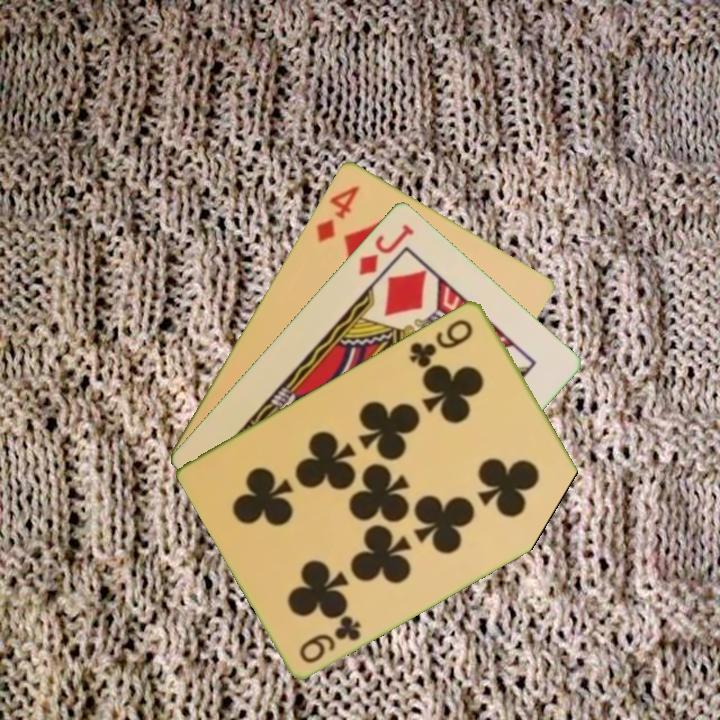4d: (312, 181, 363, 246)
9c: (405, 315, 476, 370), (295, 611, 364, 666)
Jd: (354, 219, 417, 278)
